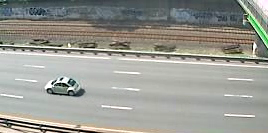car: (43, 75, 83, 98)
